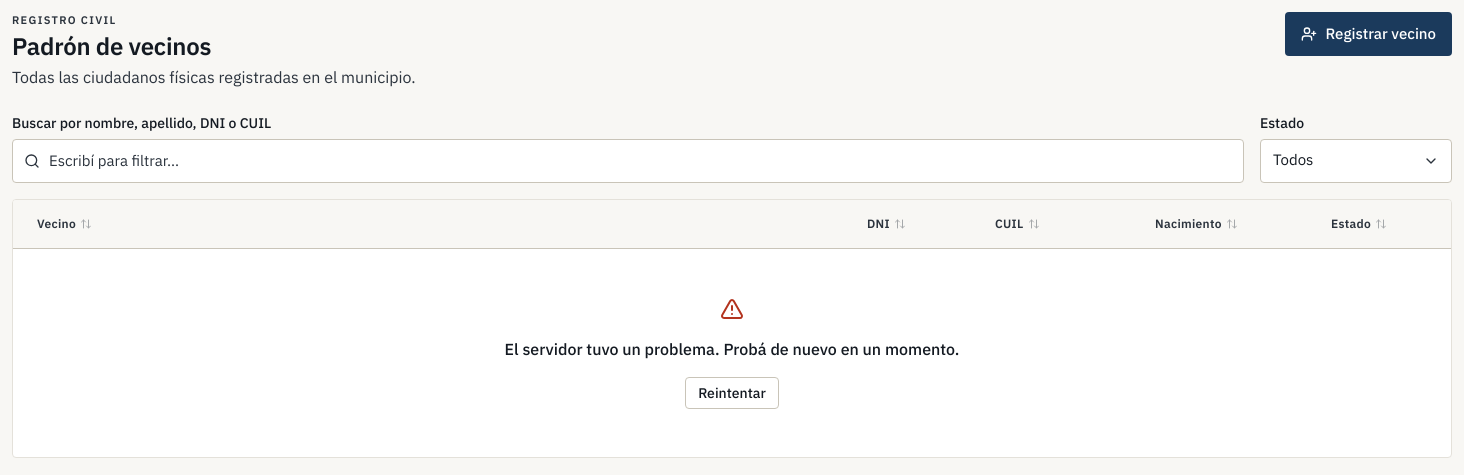
estados de la pantalla › muestra el error del backend y permite reintentar
What coordinates should you click on to do the following:
click the button "Reintentar"
I would click on:
 (732, 392)
Its box is [685,376,779,408].
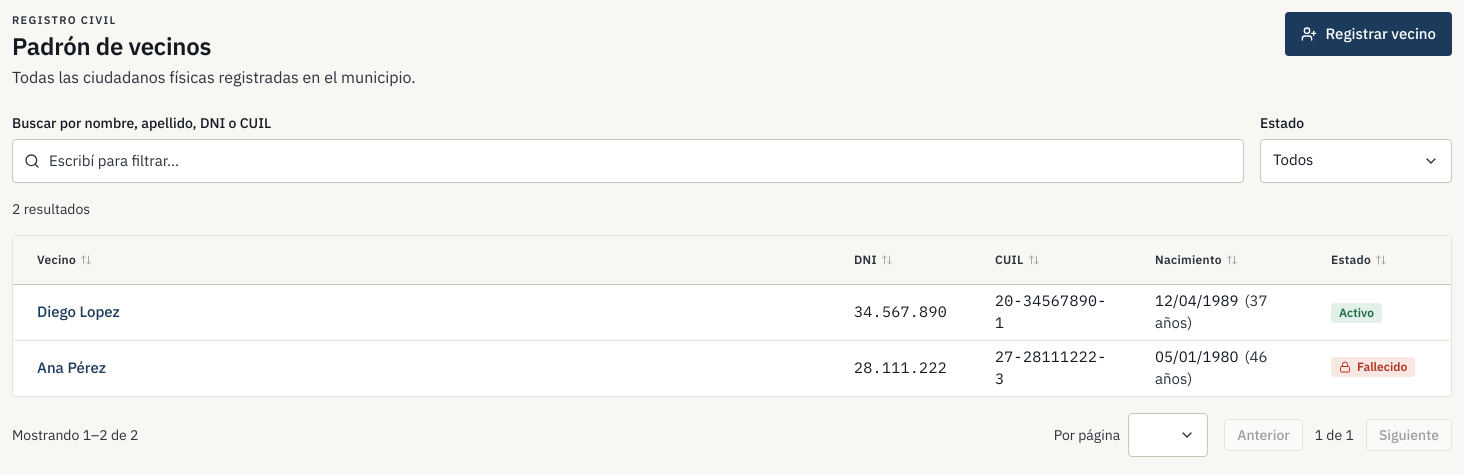
Result: the link "Diego Lopez" is shown at [37,302,120,321]
